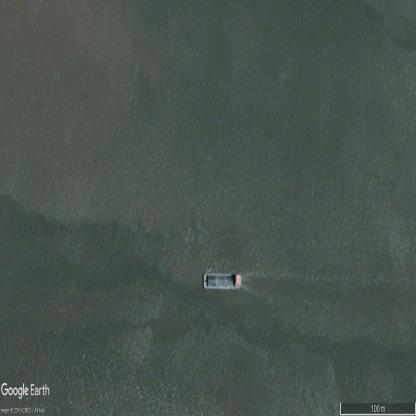ship: (201, 272, 244, 292)
